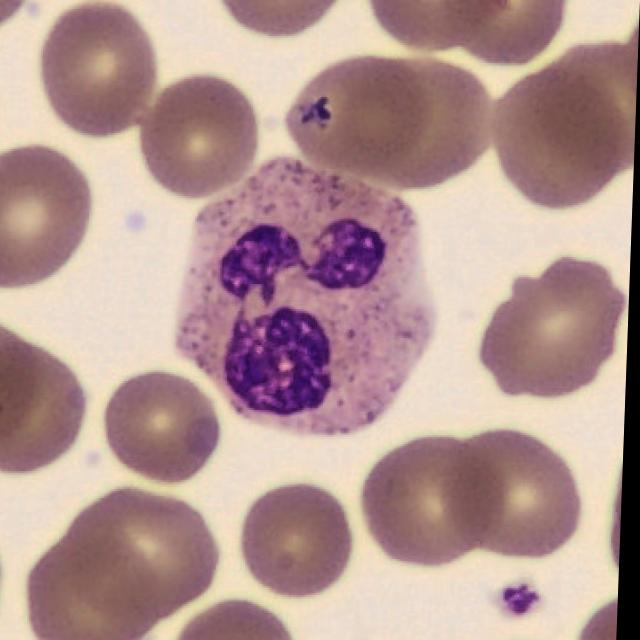Neutrofilo segmentado: (177, 156, 440, 437)
